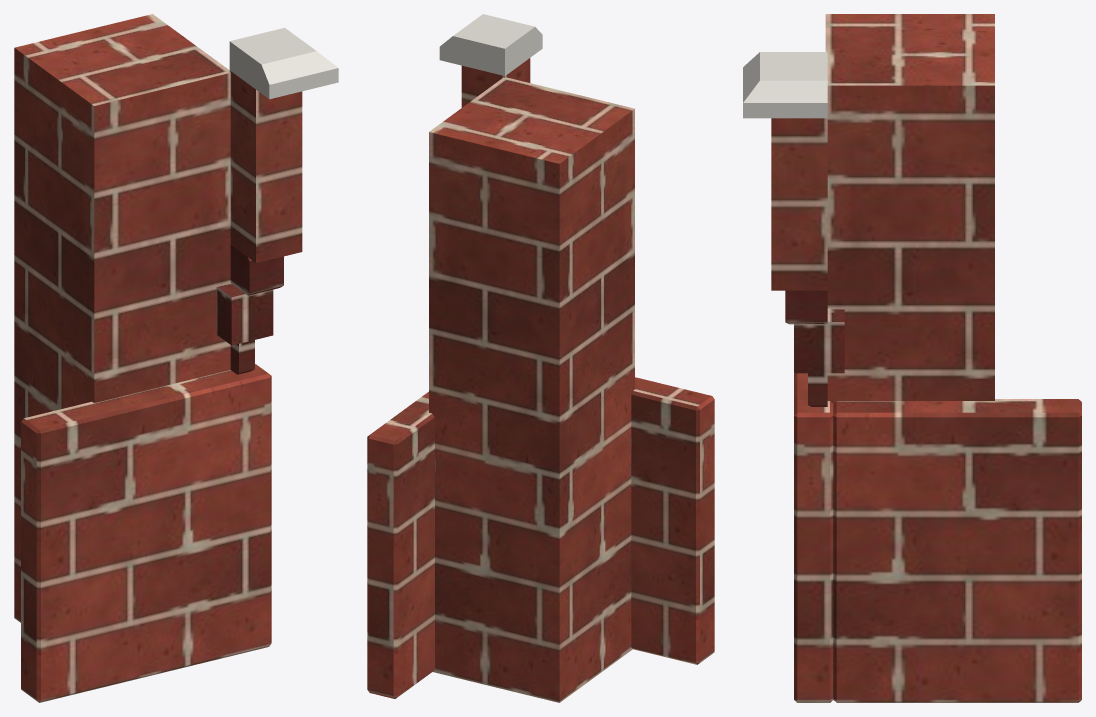
The model's file is o_corner_p.glb.
3 views of the same model, side by side, from view 1: azimuth 30°, elevation 25°; view 2: azimuth 150°, elevation 25°; view 3: azimuth 270°, elevation 25° (orthographic). The views are drawn at different scales.
Parts seen in each view (by area): view 1: o_corner_p_brick, o_corner_p_brick2, o_corner_p_coping; view 2: o_corner_p_brick, o_corner_p_coping; view 3: o_corner_p_brick, o_corner_p_coping, o_corner_p_brick2.
Boxes of the visible parts, x1,y1,x2,y2 form: o_corner_p_brick: (14, 14, 302, 702); o_corner_p_brick2: (216, 245, 283, 374); o_corner_p_coping: (229, 27, 338, 99); o_corner_p_brick: (367, 58, 714, 702); o_corner_p_coping: (439, 14, 542, 75); o_corner_p_brick: (771, 14, 1081, 702); o_corner_p_coping: (743, 52, 827, 118); o_corner_p_brick2: (785, 290, 844, 406).
Size of the model in its own units: 0.6 by 1.25 by 0.6.
Materials: 4 (3 with a texture image).
